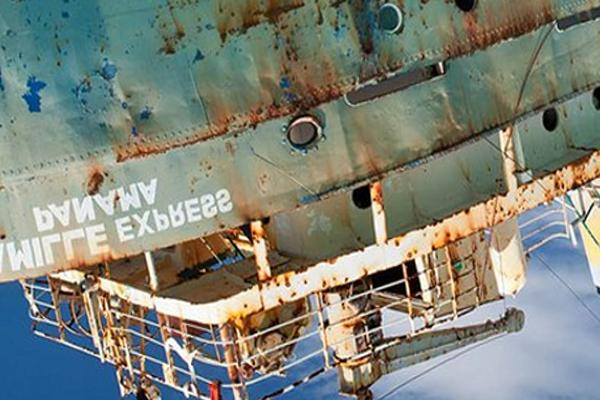rust: (119, 100, 266, 166), (150, 1, 308, 48), (446, 1, 550, 61), (243, 209, 294, 299), (97, 293, 148, 372), (544, 148, 600, 204), (432, 199, 497, 247), (278, 62, 339, 113), (156, 307, 212, 351), (360, 147, 393, 216), (83, 165, 110, 196)
